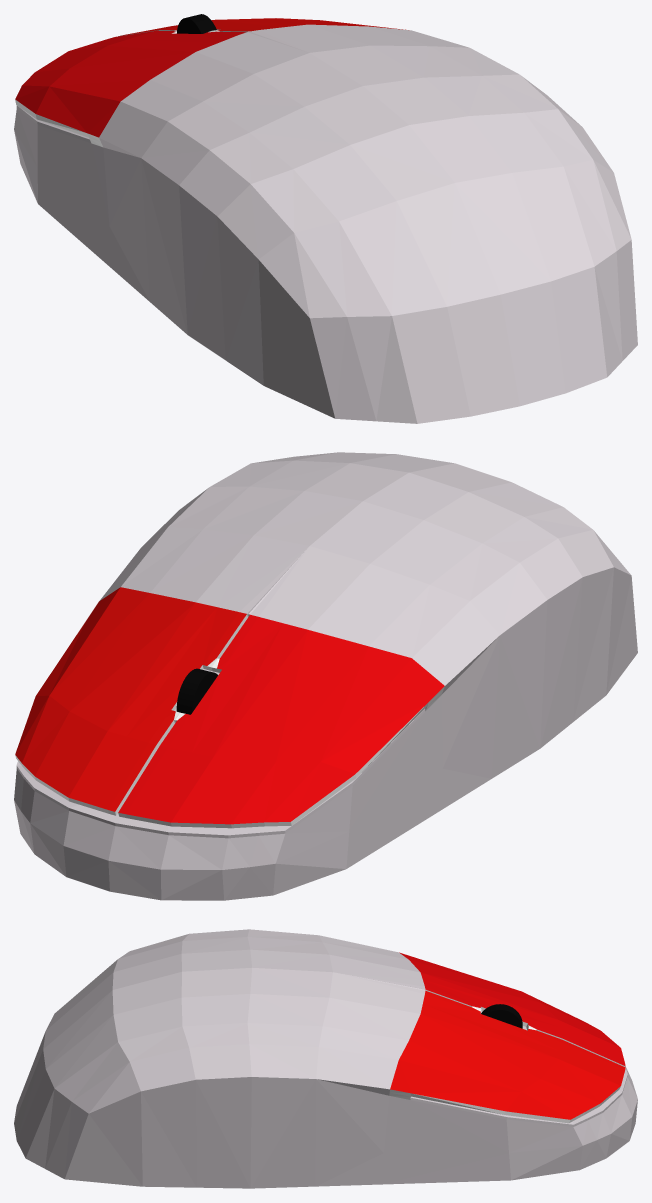
File: Mouse_Tutorial.fbx
3 views of the same model, one above another, from view 1: azimuth 30°, elevation 25°; view 2: azimuth 150°, elevation 25°; view 3: azimuth 270°, elevation 25° (orthographic). The views are drawn at different scales.
Visible parts, largest first — view 1: Cube_Cube.001, Cylinder_Cylinder.004; view 2: Cube_Cube.001, Cylinder_Cylinder.004; view 3: Cube_Cube.001, Cylinder_Cylinder.004.
Part boxes in pixels (bbox=[...]): Cube_Cube.001: bbox=[14, 18, 637, 423]; Cylinder_Cylinder.004: bbox=[177, 14, 216, 33]; Cube_Cube.001: bbox=[14, 452, 637, 900]; Cylinder_Cylinder.004: bbox=[176, 668, 217, 714]; Cube_Cube.001: bbox=[14, 929, 637, 1188]; Cylinder_Cylinder.004: bbox=[481, 1004, 522, 1028].
Size of the model in its own units: 172 by 92.3 by 332.
